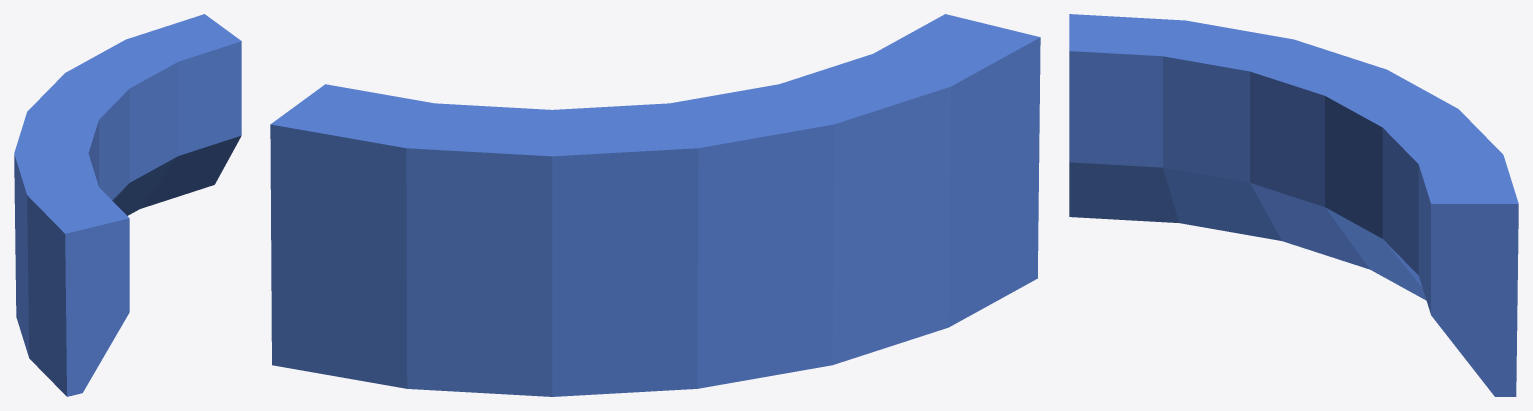
The model's file is TopWindow_Corner_Curve_Inner_Collision.fbx.
3 views of the same model, side by side, from view 1: azimuth 30°, elevation 25°; view 2: azimuth 150°, elevation 25°; view 3: azimuth 270°, elevation 25° (orthographic). The views are drawn at different scales.
Parts seen in each view (by area): view 1: TopWindow_Corner_Curve_Inner_Collision; view 2: TopWindow_Corner_Curve_Inner_Collision; view 3: TopWindow_Corner_Curve_Inner_Collision.
Boxes of the visible parts, x1,y1,x2,y2 form: TopWindow_Corner_Curve_Inner_Collision: (14,14,241,396); TopWindow_Corner_Curve_Inner_Collision: (270,14,1040,396); TopWindow_Corner_Curve_Inner_Collision: (1069,14,1518,396).
Size of the model in its own units: 422 by 200 by 422.
